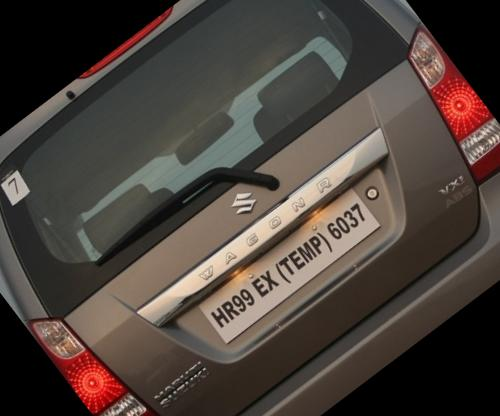plate: (183, 164, 405, 362)
